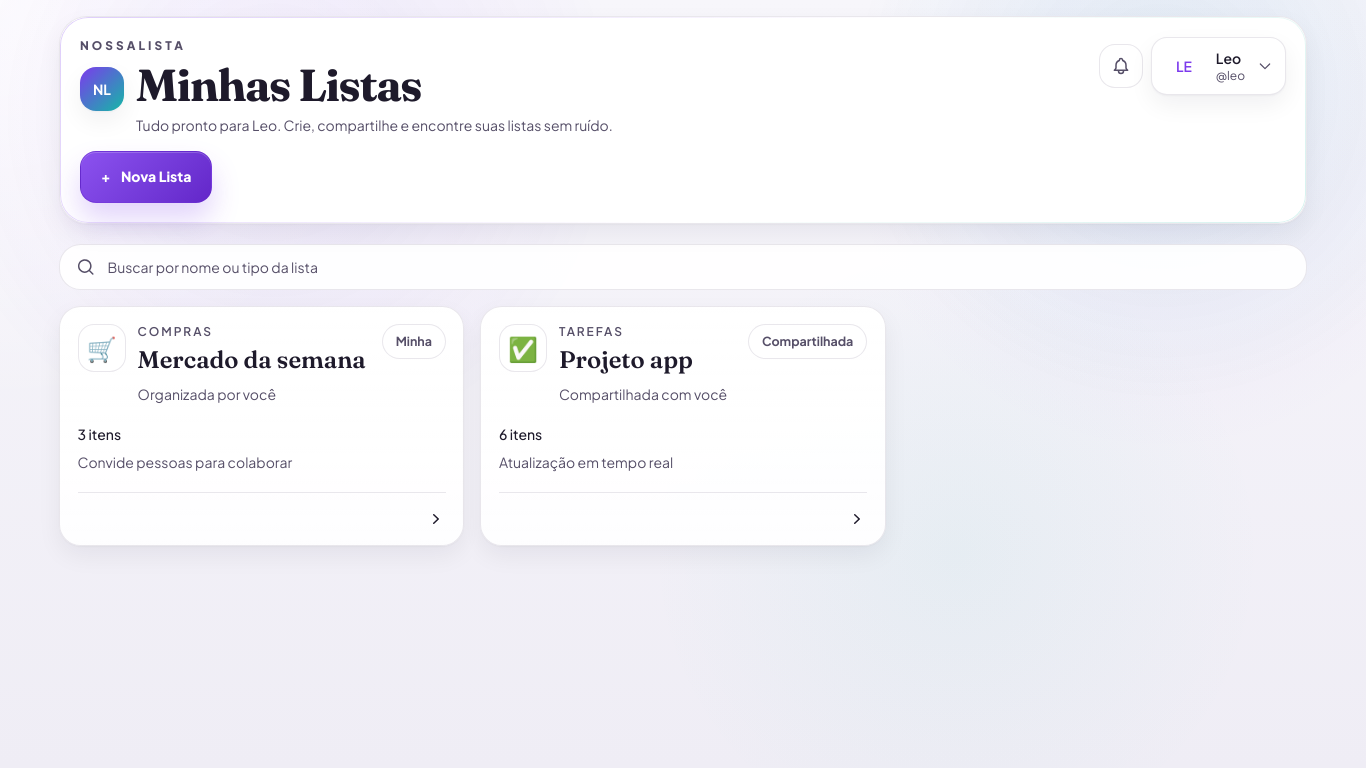
Test: Home search › filtra listas por tipo
The width and height of the screenshot is (1366, 768).
Type "tarefas" into the search field named "Buscar listas" at (699, 266), box [108, 256, 1290, 276]
Wait 260 ms
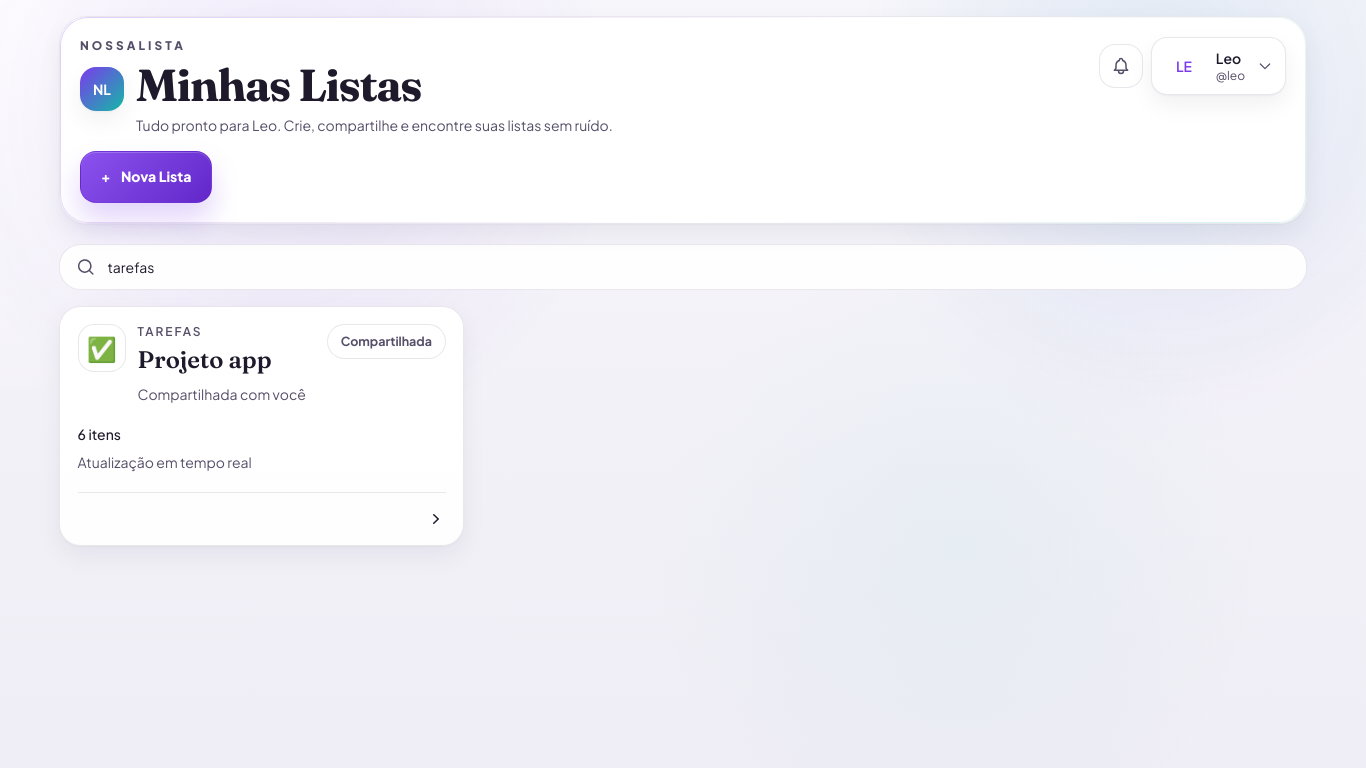
expect the heading "Projeto app" is shown: met, box [138, 345, 272, 374]
expect the link "Mercado da semana" is gone: met
